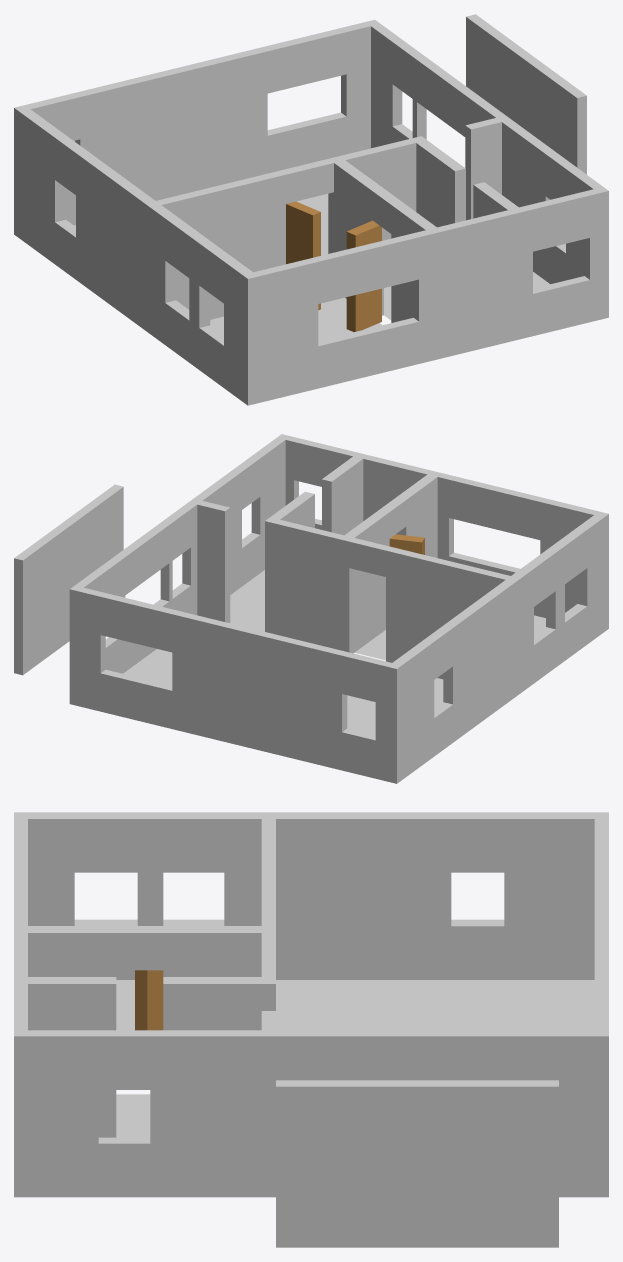
Rendered from plan.glb.
3 renders of one model, top to bottom at view 1: azimuth 30°, elevation 25°; view 2: azimuth 150°, elevation 25°; view 3: azimuth 270°, elevation 25°, orthographic. The views are drawn at different scales.
Visible parts, largest first — view 1: Wall_23, Wall_4, Wall_9, Wall_8, Wall_33, Wall_3, Wall_20, Window_28, Window_5, Wall_25, Window_35, Window_17 (+29 smaller); view 2: Wall_23, Wall_33, Wall_6, Wall_9, Wall_8, Wall_20, Wall_22, Room_2, Wall_4, Window_17, Wall_7, Wall_11 (+30 smaller); view 3: Wall_33, Wall_9, Wall_7, Room_2, Wall_20, Wall_15, Wall_10, Window_0, Window_13, Wall_30, Wall_25, Wall_11 (+19 smaller).
Boxes of the visible parts, x1,y1,x2,y2 form: Wall_23: (74, 47, 267, 200); Wall_4: (413, 205, 532, 363); Wall_9: (76, 150, 175, 344); Wall_8: (145, 168, 293, 334); Wall_33: (466, 14, 586, 174); Wall_3: (247, 258, 318, 404); Wall_20: (14, 105, 65, 263); Window_28: (313, 244, 375, 388); Window_5: (528, 191, 589, 335); Wall_25: (224, 259, 258, 405); Window_35: (370, 233, 418, 374); Window_17: (262, 36, 312, 173); Wall_23: (172, 610, 347, 770); Wall_33: (14, 484, 123, 675); Wall_6: (265, 517, 354, 653); Wall_9: (443, 566, 533, 742); Wall_8: (386, 547, 520, 696); Wall_20: (387, 639, 434, 783); Wall_22: (188, 499, 230, 622); Room_2: (123, 570, 443, 735); Wall_4: (345, 451, 453, 560); Window_17: (131, 600, 176, 728); Wall_7: (182, 469, 241, 615); Wall_11: (344, 510, 389, 652); Wall_33: (276, 1080, 558, 1247); Wall_9: (224, 812, 451, 979); Wall_7: (150, 1030, 293, 1197); Room_2: (116, 980, 594, 1137); Wall_20: (504, 812, 608, 979); Wall_15: (14, 1030, 98, 1197); Wall_10: (539, 1030, 608, 1197); Window_0: (451, 812, 504, 979); Window_13: (98, 1030, 150, 1197); Wall_30: (163, 977, 275, 1030); Wall_25: (14, 812, 74, 925); Wall_11: (163, 926, 267, 976).
Size of the model in its own units: 9.49 by 2.6 by 8.7.
